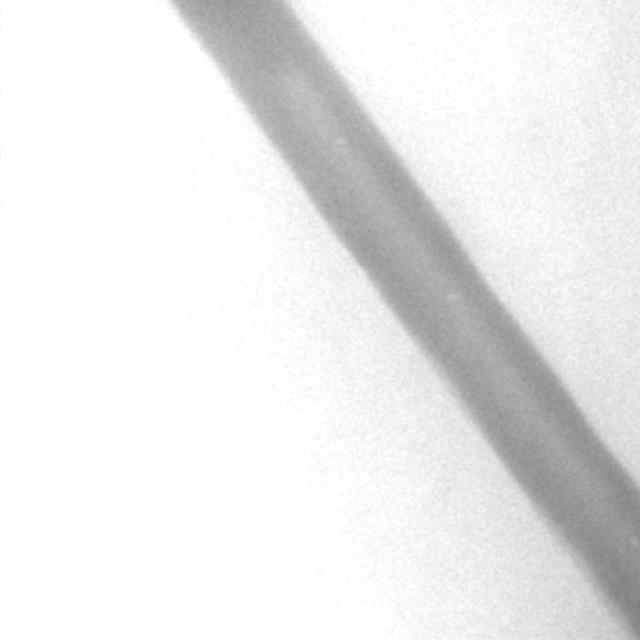air hole: (445, 286, 459, 306), (332, 133, 348, 149)
